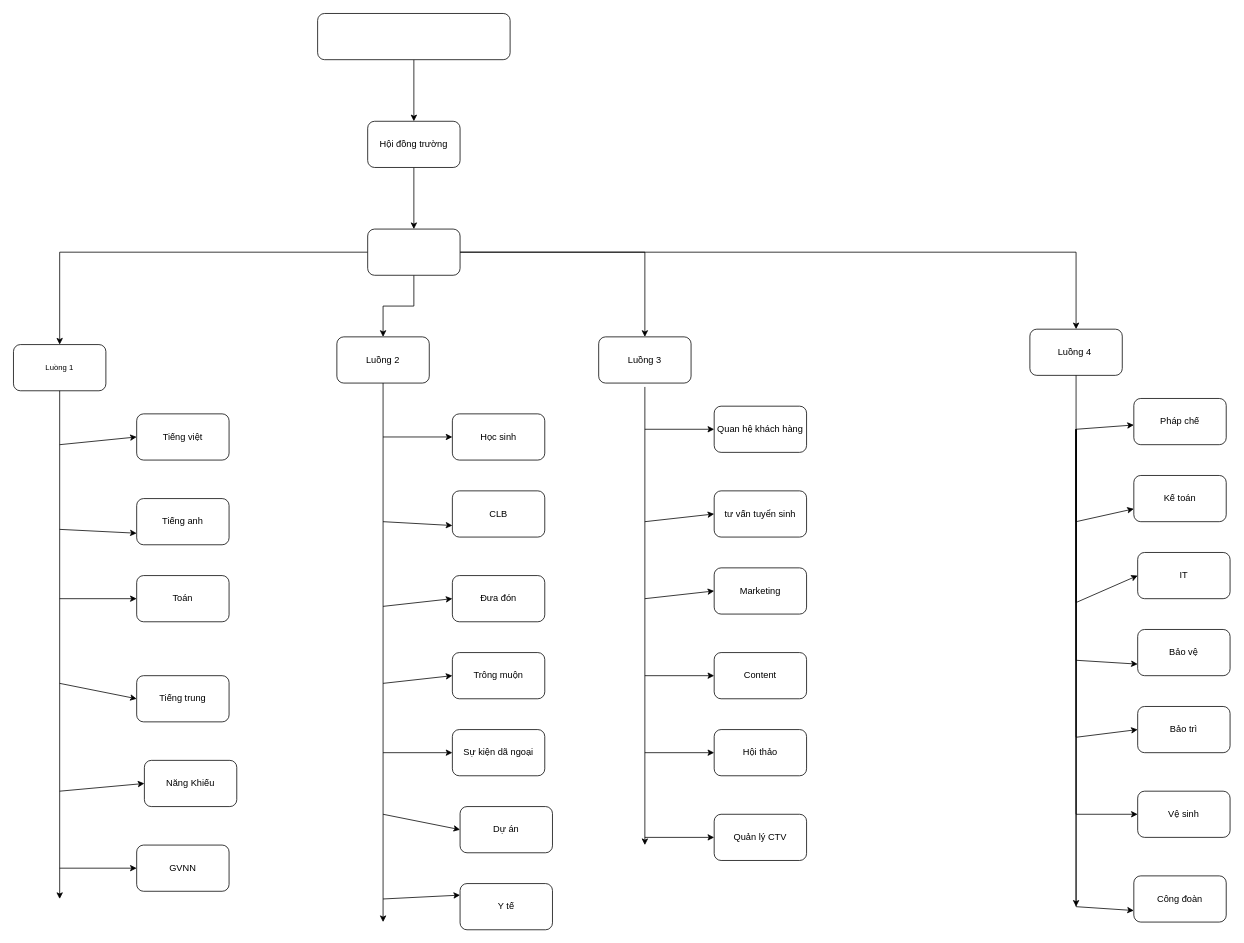
The diagram is 1244 pixels wide and 943 high, and some of its shapes have lost their labels. Here are the shapes that lost their labels. From the top down, the centre of each, then its label:
At [413,36]: "HĐQT".
At [413,251]: "CEO".
